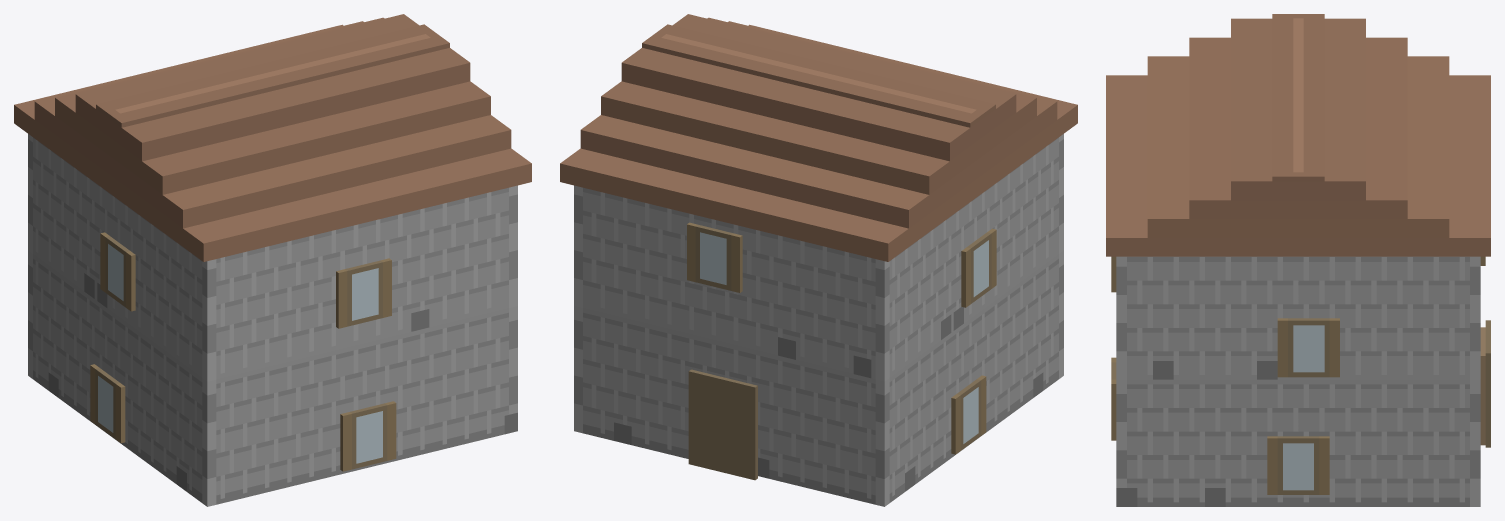
Rendered from molino_03.glb.
3 renders of one model, left to right at view 1: azimuth 30°, elevation 25°; view 2: azimuth 150°, elevation 25°; view 3: azimuth 270°, elevation 25°, orthographic.
Visible parts, largest first — view 1: molino_03; view 2: molino_03; view 3: molino_03.
Part boxes in pixels (x1,y1,x2,y2): molino_03: (14, 14, 531, 506); molino_03: (560, 14, 1077, 506); molino_03: (1106, 14, 1490, 506).
Size of the model in its own units: 7.4 by 7.1 by 7.4.
